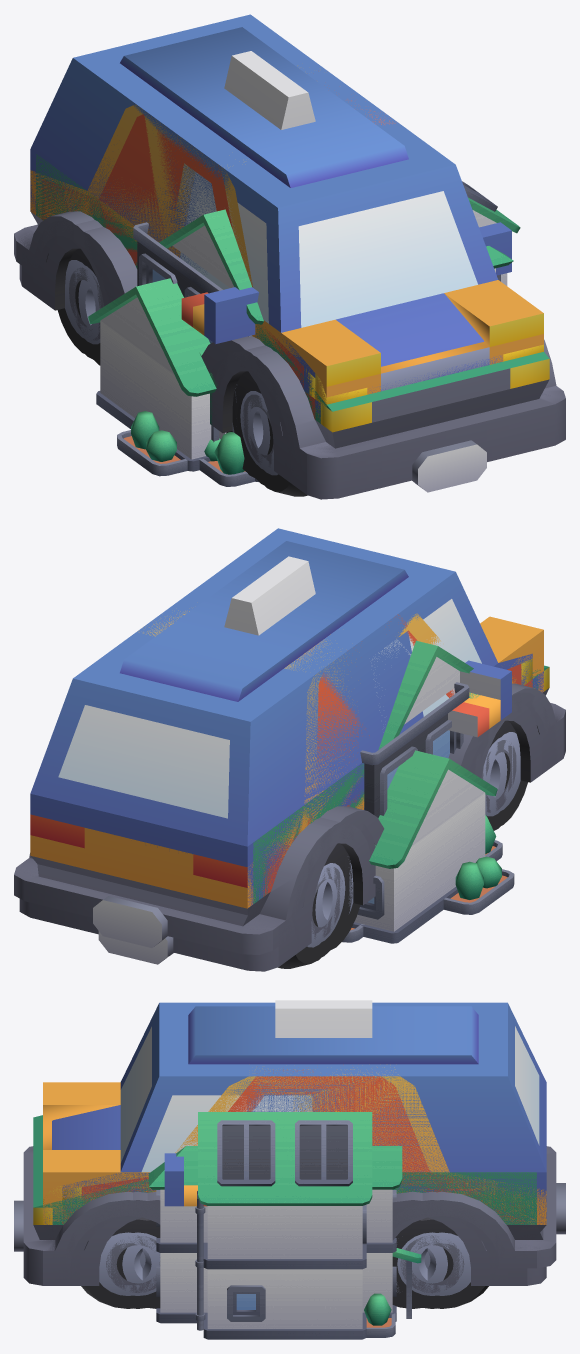
File: city-assets.glb
3 renders of one model, top to bottom at view 1: azimuth 30°, elevation 25°; view 2: azimuth 150°, elevation 25°; view 3: azimuth 270°, elevation 25°, orthographic. The views are drawn at different scales.
Visible parts, largest first — view 1: body.003, body.001, body.002, building-type-b, body, building-type-f, building-type-p, wheel-back-right.001, wheel-front-right.001, wheel-front-right.002, wheel-back-right.002, wheel-front-right.003 (+2 smaller); view 2: body.003, body.002, body.001, building-type-b, body, building-type-p, building-type-f, wheel-back-right.001, wheel-front-right.001, wheel-back-right, wheel-back-right.002, wheel-front-right.002 (+3 smaller); view 3: body.003, building-type-b, body.002, body.001, body, building-type-f, wheel-back-left.001, wheel-front-left.001, wheel-back-left.002, wheel-front-left.002, wheel-back-left, wheel-back-left.003 (+2 smaller).
Boxes of the visible parts, x1,y1,x2,y2 form: body.003: [19, 14, 543, 488]; body.001: [14, 154, 565, 499]; body.002: [19, 51, 550, 487]; building-type-b: [88, 181, 520, 476]; body: [33, 100, 395, 481]; building-type-f: [159, 209, 513, 486]; building-type-p: [133, 222, 222, 343]; wheel-back-right.001: [57, 248, 100, 356]; wheel-front-right.001: [237, 379, 307, 496]; wheel-front-right.002: [232, 374, 284, 487]; wheel-back-right.002: [66, 251, 104, 360]; wheel-front-right.003: [236, 375, 281, 486]; body.003: [20, 528, 557, 970]; body.002: [19, 556, 557, 971]; body.001: [14, 665, 565, 954]; building-type-b: [352, 750, 514, 943]; body: [169, 614, 546, 958]; building-type-p: [360, 682, 469, 818]; building-type-f: [378, 640, 502, 861]; wheel-back-right.001: [278, 851, 347, 968]; wheel-front-right.001: [483, 721, 527, 828]; wheel-back-right: [312, 843, 360, 951]; wheel-back-right.002: [312, 850, 352, 956]; wheel-front-right.002: [481, 720, 523, 830]; body.003: [42, 1002, 546, 1285]; building-type-b: [195, 1112, 395, 1339]; body.002: [39, 1000, 546, 1285]; body.001: [14, 1115, 565, 1285]; body: [62, 1069, 527, 1285]; building-type-f: [149, 1146, 421, 1323]; wheel-back-left.001: [392, 1220, 488, 1308]; wheel-front-left.001: [81, 1220, 160, 1308]; wheel-back-left.002: [392, 1217, 474, 1308]; wheel-front-left.002: [95, 1217, 160, 1308]; wheel-back-left: [392, 1219, 453, 1308]; wheel-back-left.003: [392, 1218, 474, 1308].
Bounding box in the file's own units: 1.83 × 1.55 × 2.85.
20 materials, 11 textured.
